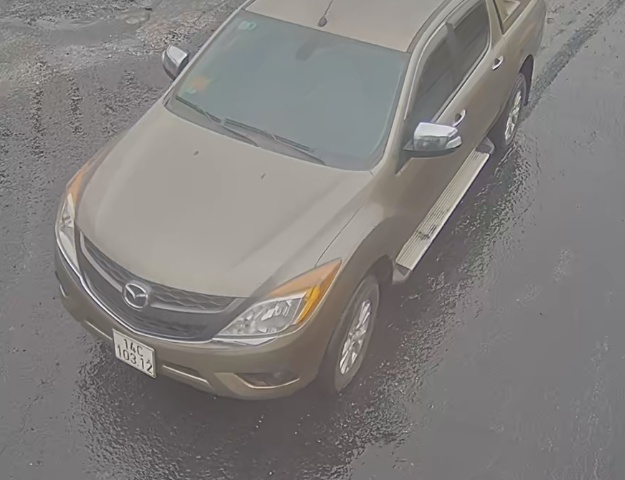vehicle plate: (109, 322, 168, 384)
